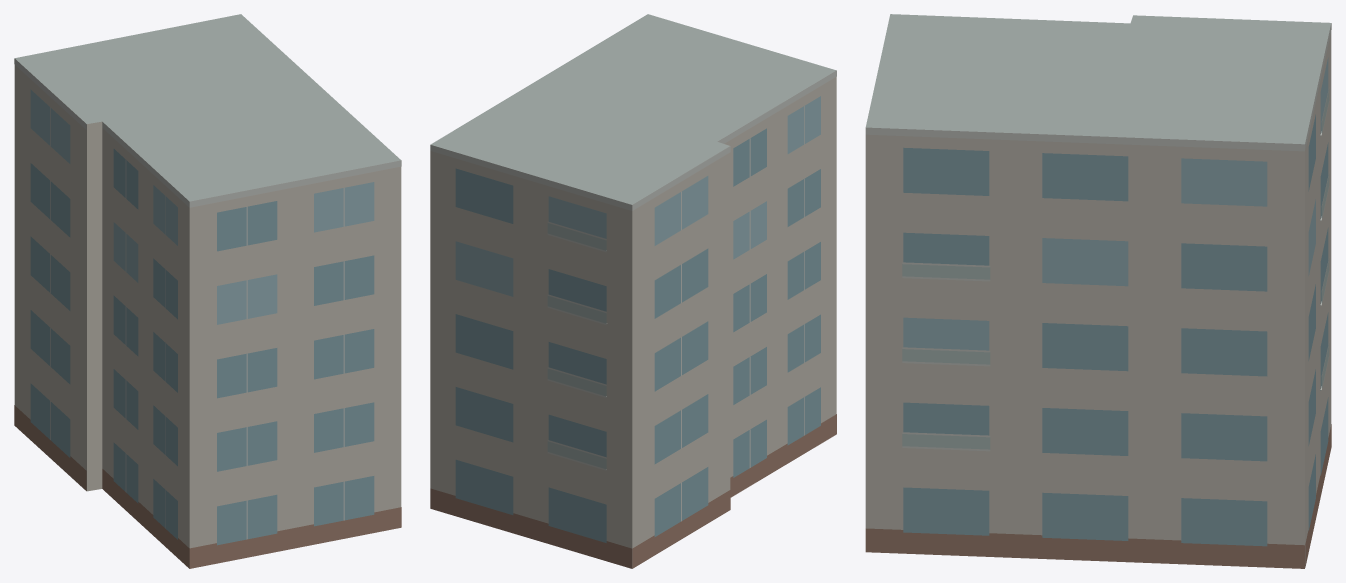
The model's file is survey-upis-32871386.glb.
3 renders of one model, left to right at view 1: azimuth 30°, elevation 25°; view 2: azimuth 150°, elevation 25°; view 3: azimuth 270°, elevation 25°, orthographic. The views are drawn at different scales.
Parts seen in each view (by area): view 1: survey-upis-32871386.tmp; view 2: survey-upis-32871386.tmp; view 3: survey-upis-32871386.tmp.
Part boxes in pixels (x1,y1,x2,y2): survey-upis-32871386.tmp: [14, 14, 401, 568]; survey-upis-32871386.tmp: [430, 14, 836, 568]; survey-upis-32871386.tmp: [865, 14, 1331, 568].
Bounding box in the file's own units: 9.55 × 14.5 × 14.42.
